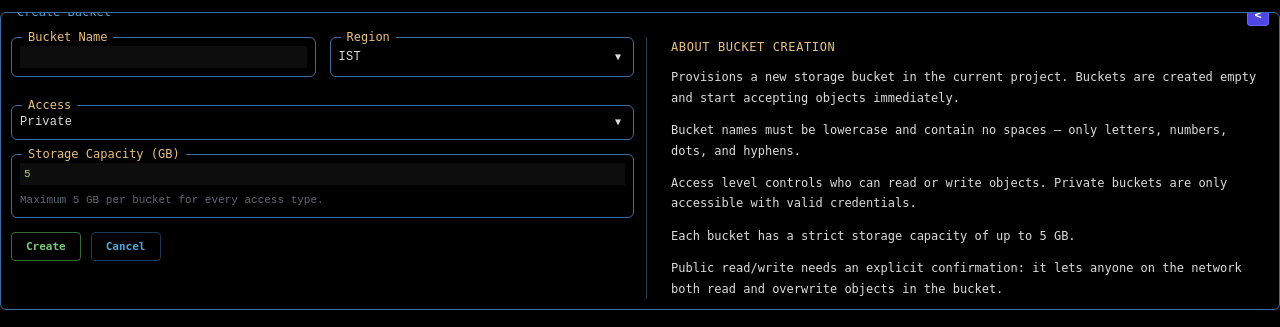
Test case: Scenario 6.2 — Bucket Name Validation › 6.2.1 — empty name is rejected, form does not submit
Click the button "Create" at [46, 246], box top-left (11, 232), bottom-right (81, 261)
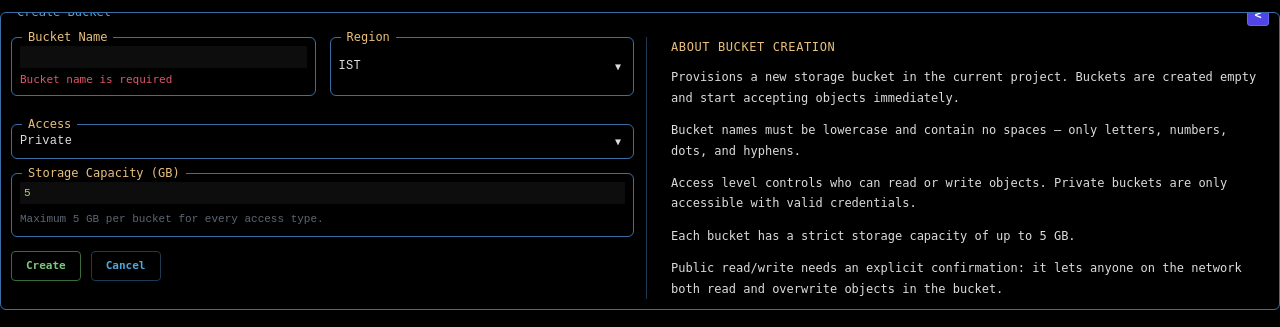
Expected: the text with class "fci-form-error" reads "Bucket name is required", top-left (20, 73), bottom-right (172, 86)
